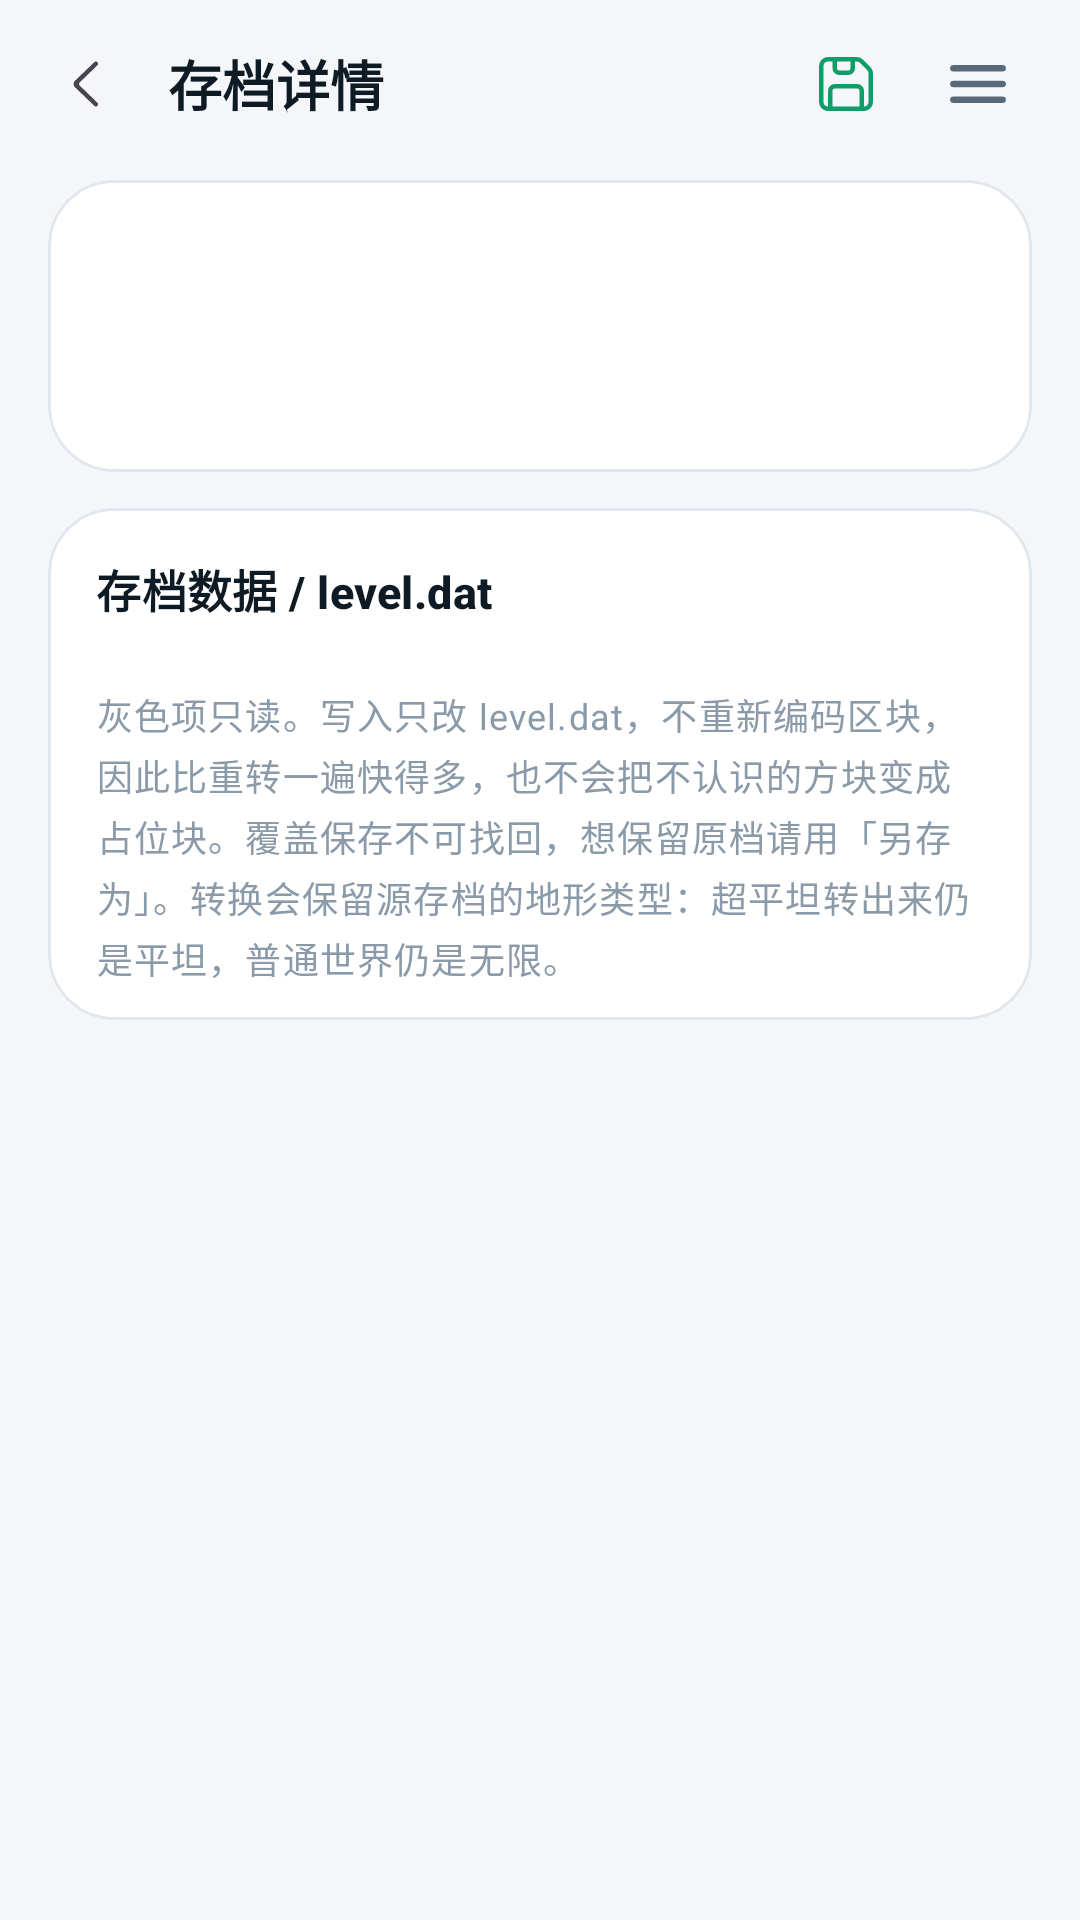

Named icons in this screenshot (1080*1920) and their centers, (x,y):
保存: (846,84)
更多操作: (978,84)
返回: (85,84)
